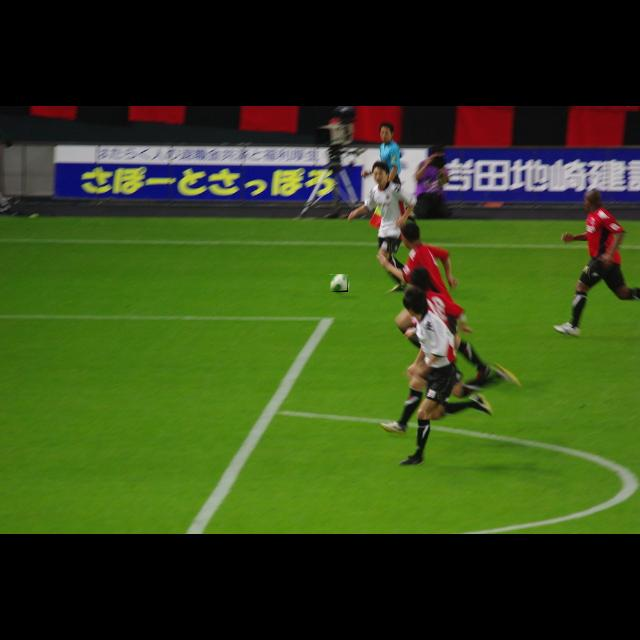Football: (330, 274, 348, 292)
